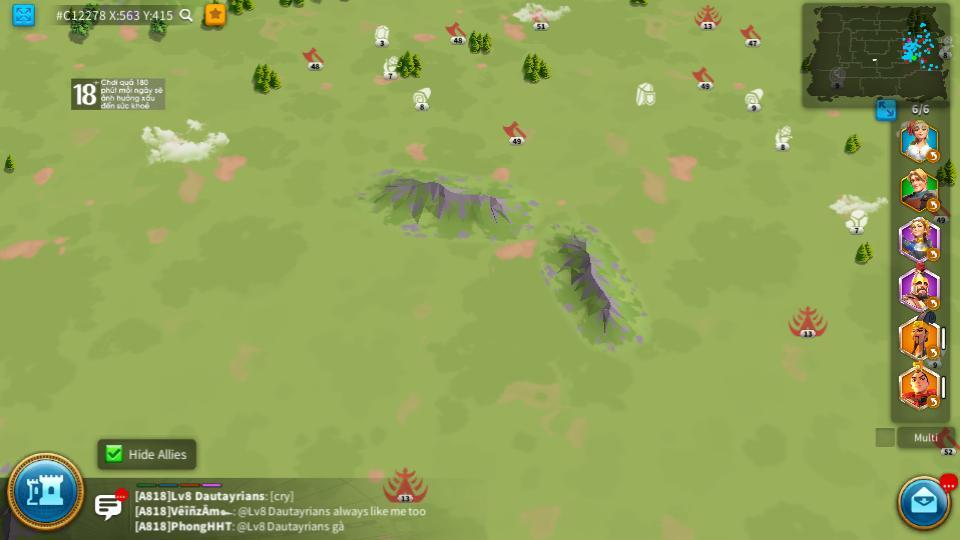march_returning: (926, 248, 941, 260), (926, 150, 941, 162), (927, 395, 941, 407), (925, 298, 938, 309), (927, 348, 940, 359), (927, 201, 941, 211)
